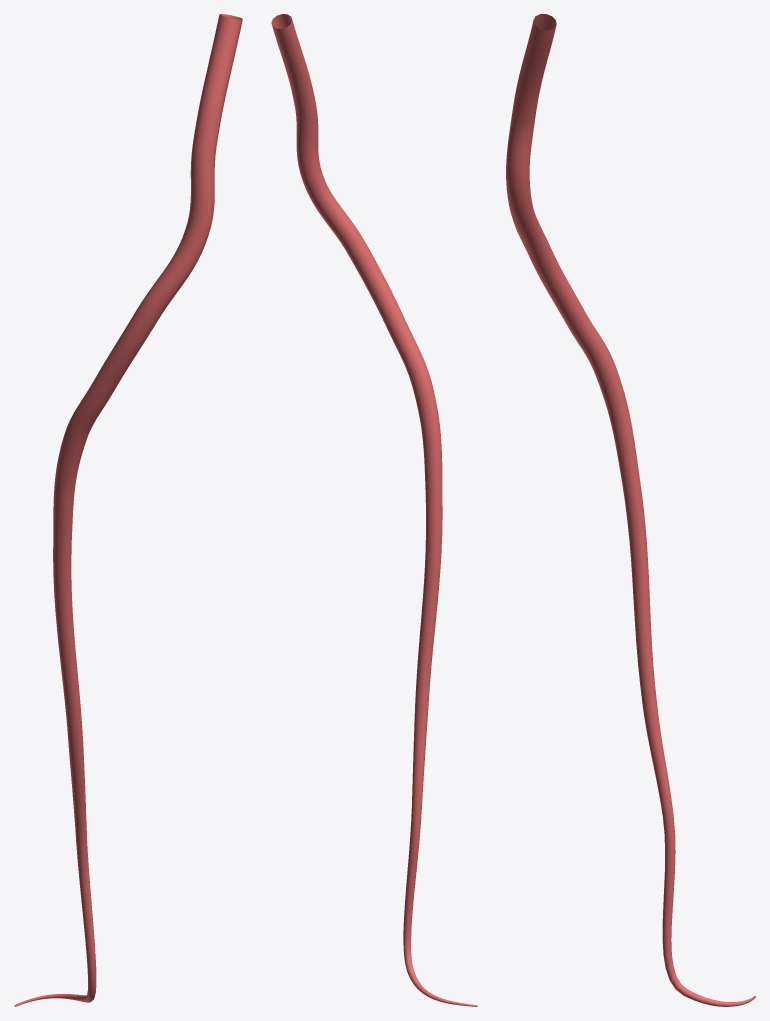
The model's file is Dorsal_digital_arteries_hand_right_001.glb.
The picture shows the model from 3 angles, left to right: view 1: azimuth 30°, elevation 25°; view 2: azimuth 210°, elevation 25°; view 3: azimuth 270°, elevation 25°; orthographic projection. The views are drawn at different scales.
Parts seen in each view (by area): view 1: Dorsal_digital_arteries_of_hand.r.001_BezierCurve.185; view 2: Dorsal_digital_arteries_of_hand.r.001_BezierCurve.185; view 3: Dorsal_digital_arteries_of_hand.r.001_BezierCurve.185.
Boxes of the visible parts, x1,y1,x2,y2 form: Dorsal_digital_arteries_of_hand.r.001_BezierCurve.185: (14,14,242,1006); Dorsal_digital_arteries_of_hand.r.001_BezierCurve.185: (271,14,477,1006); Dorsal_digital_arteries_of_hand.r.001_BezierCurve.185: (506,14,755,1006).
Bounding box in the file's own units: 0.0447 × 0.3036 × 0.0666.
